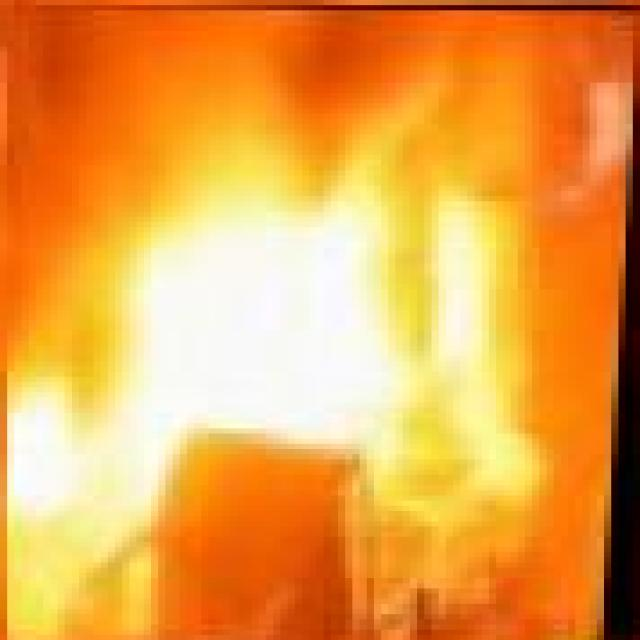fire: (7, 5, 640, 640)
